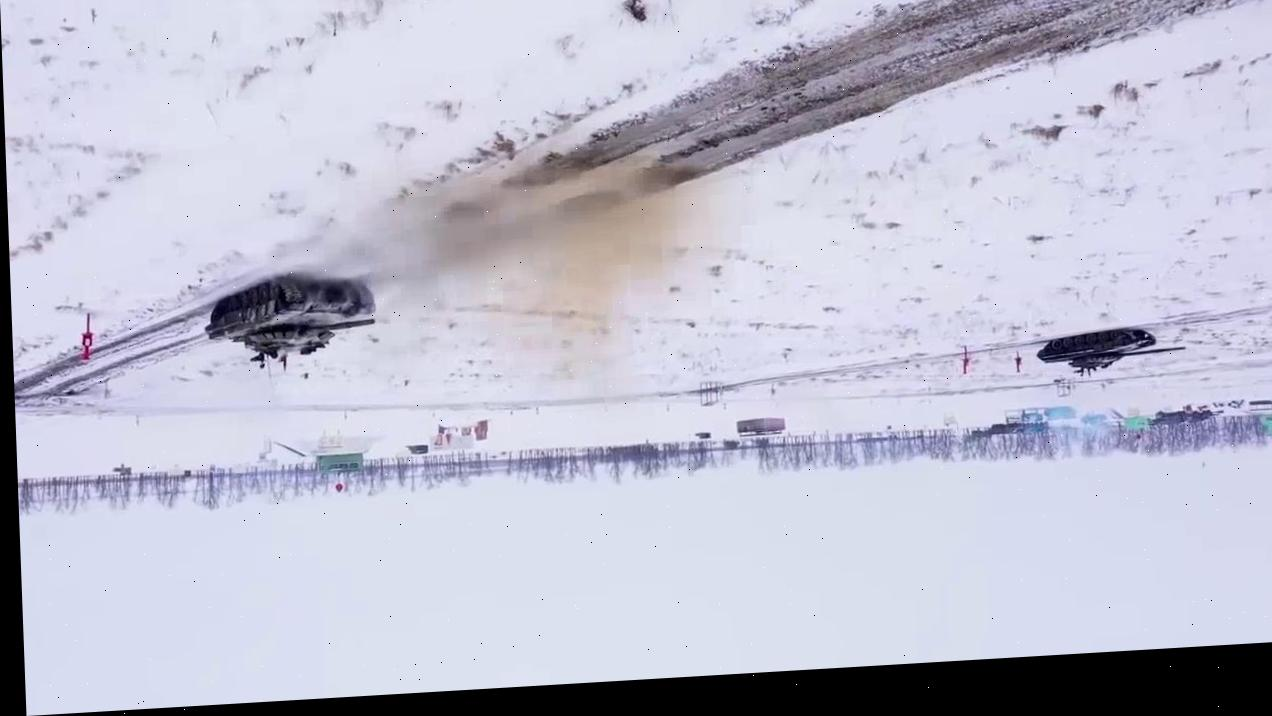tank: (203, 270, 384, 364), (1036, 324, 1188, 380)
